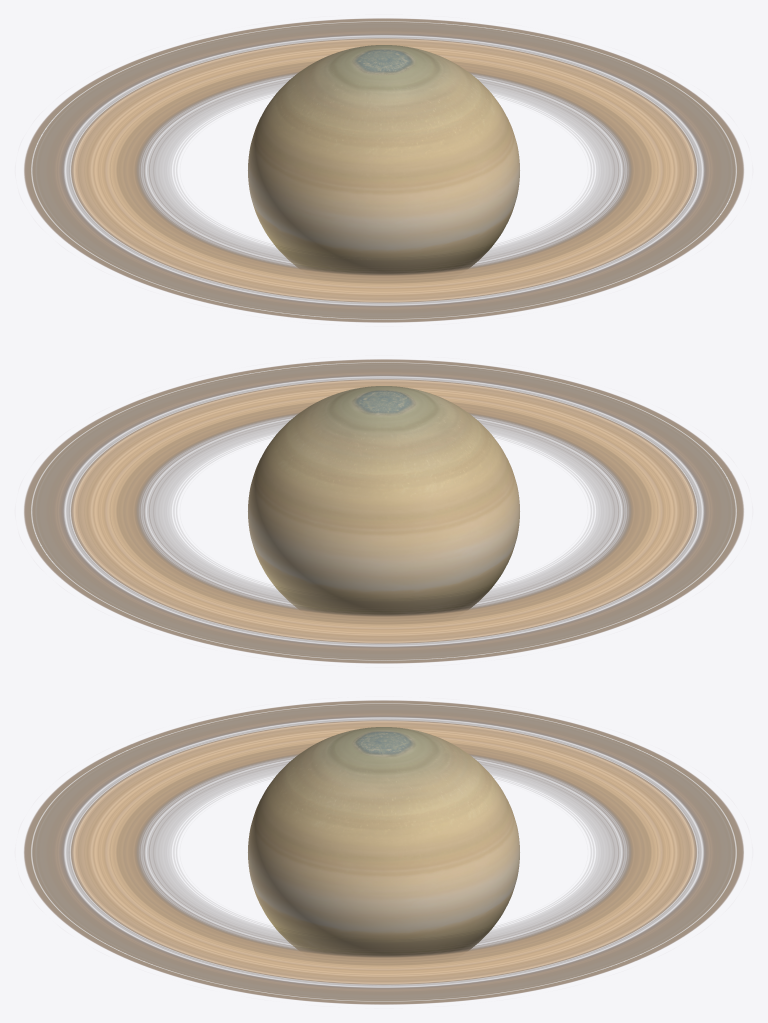
Rendered from saturn.glb.
3 renders of one model, top to bottom at view 1: azimuth 30°, elevation 25°; view 2: azimuth 150°, elevation 25°; view 3: azimuth 270°, elevation 25°, orthographic.
Visible parts, largest first — view 1: Circle, Sphere; view 2: Circle, Sphere; view 3: Circle, Sphere.
Part boxes in pixels (x1,y1,x2,y2): Circle: (24,18,743,322); Sphere: (248,45,519,274); Circle: (24,359,743,663); Sphere: (248,386,519,615); Circle: (24,700,743,1004); Sphere: (248,727,519,956).
Size of the model in its own units: 5.4 by 1.8 by 5.4.
2 materials, 2 textured.
